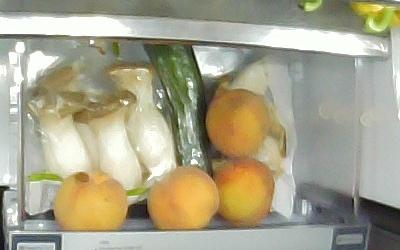peach: (205, 88, 272, 158), (145, 167, 219, 230), (211, 160, 277, 224), (53, 171, 127, 228)
